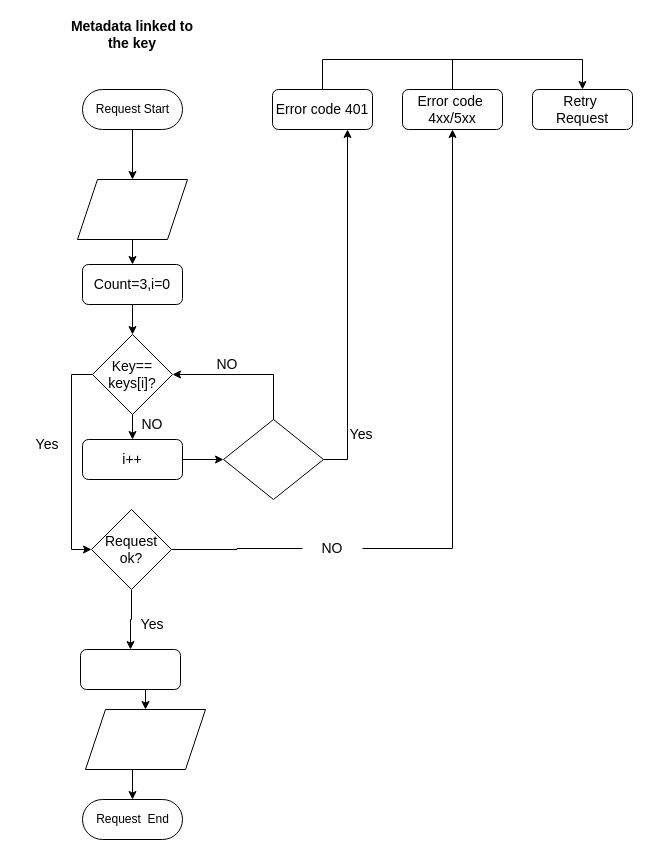
Image size: 650x857. Some labels were removed from this diagram. The centre of each missing label's shape, as x and y in pixels:
Input key: (x=132, y=209)
keys.length ==i?: (x=273, y=459)
Output id,key, description: (x=145, y=739)
Success code 200: (x=130, y=669)
